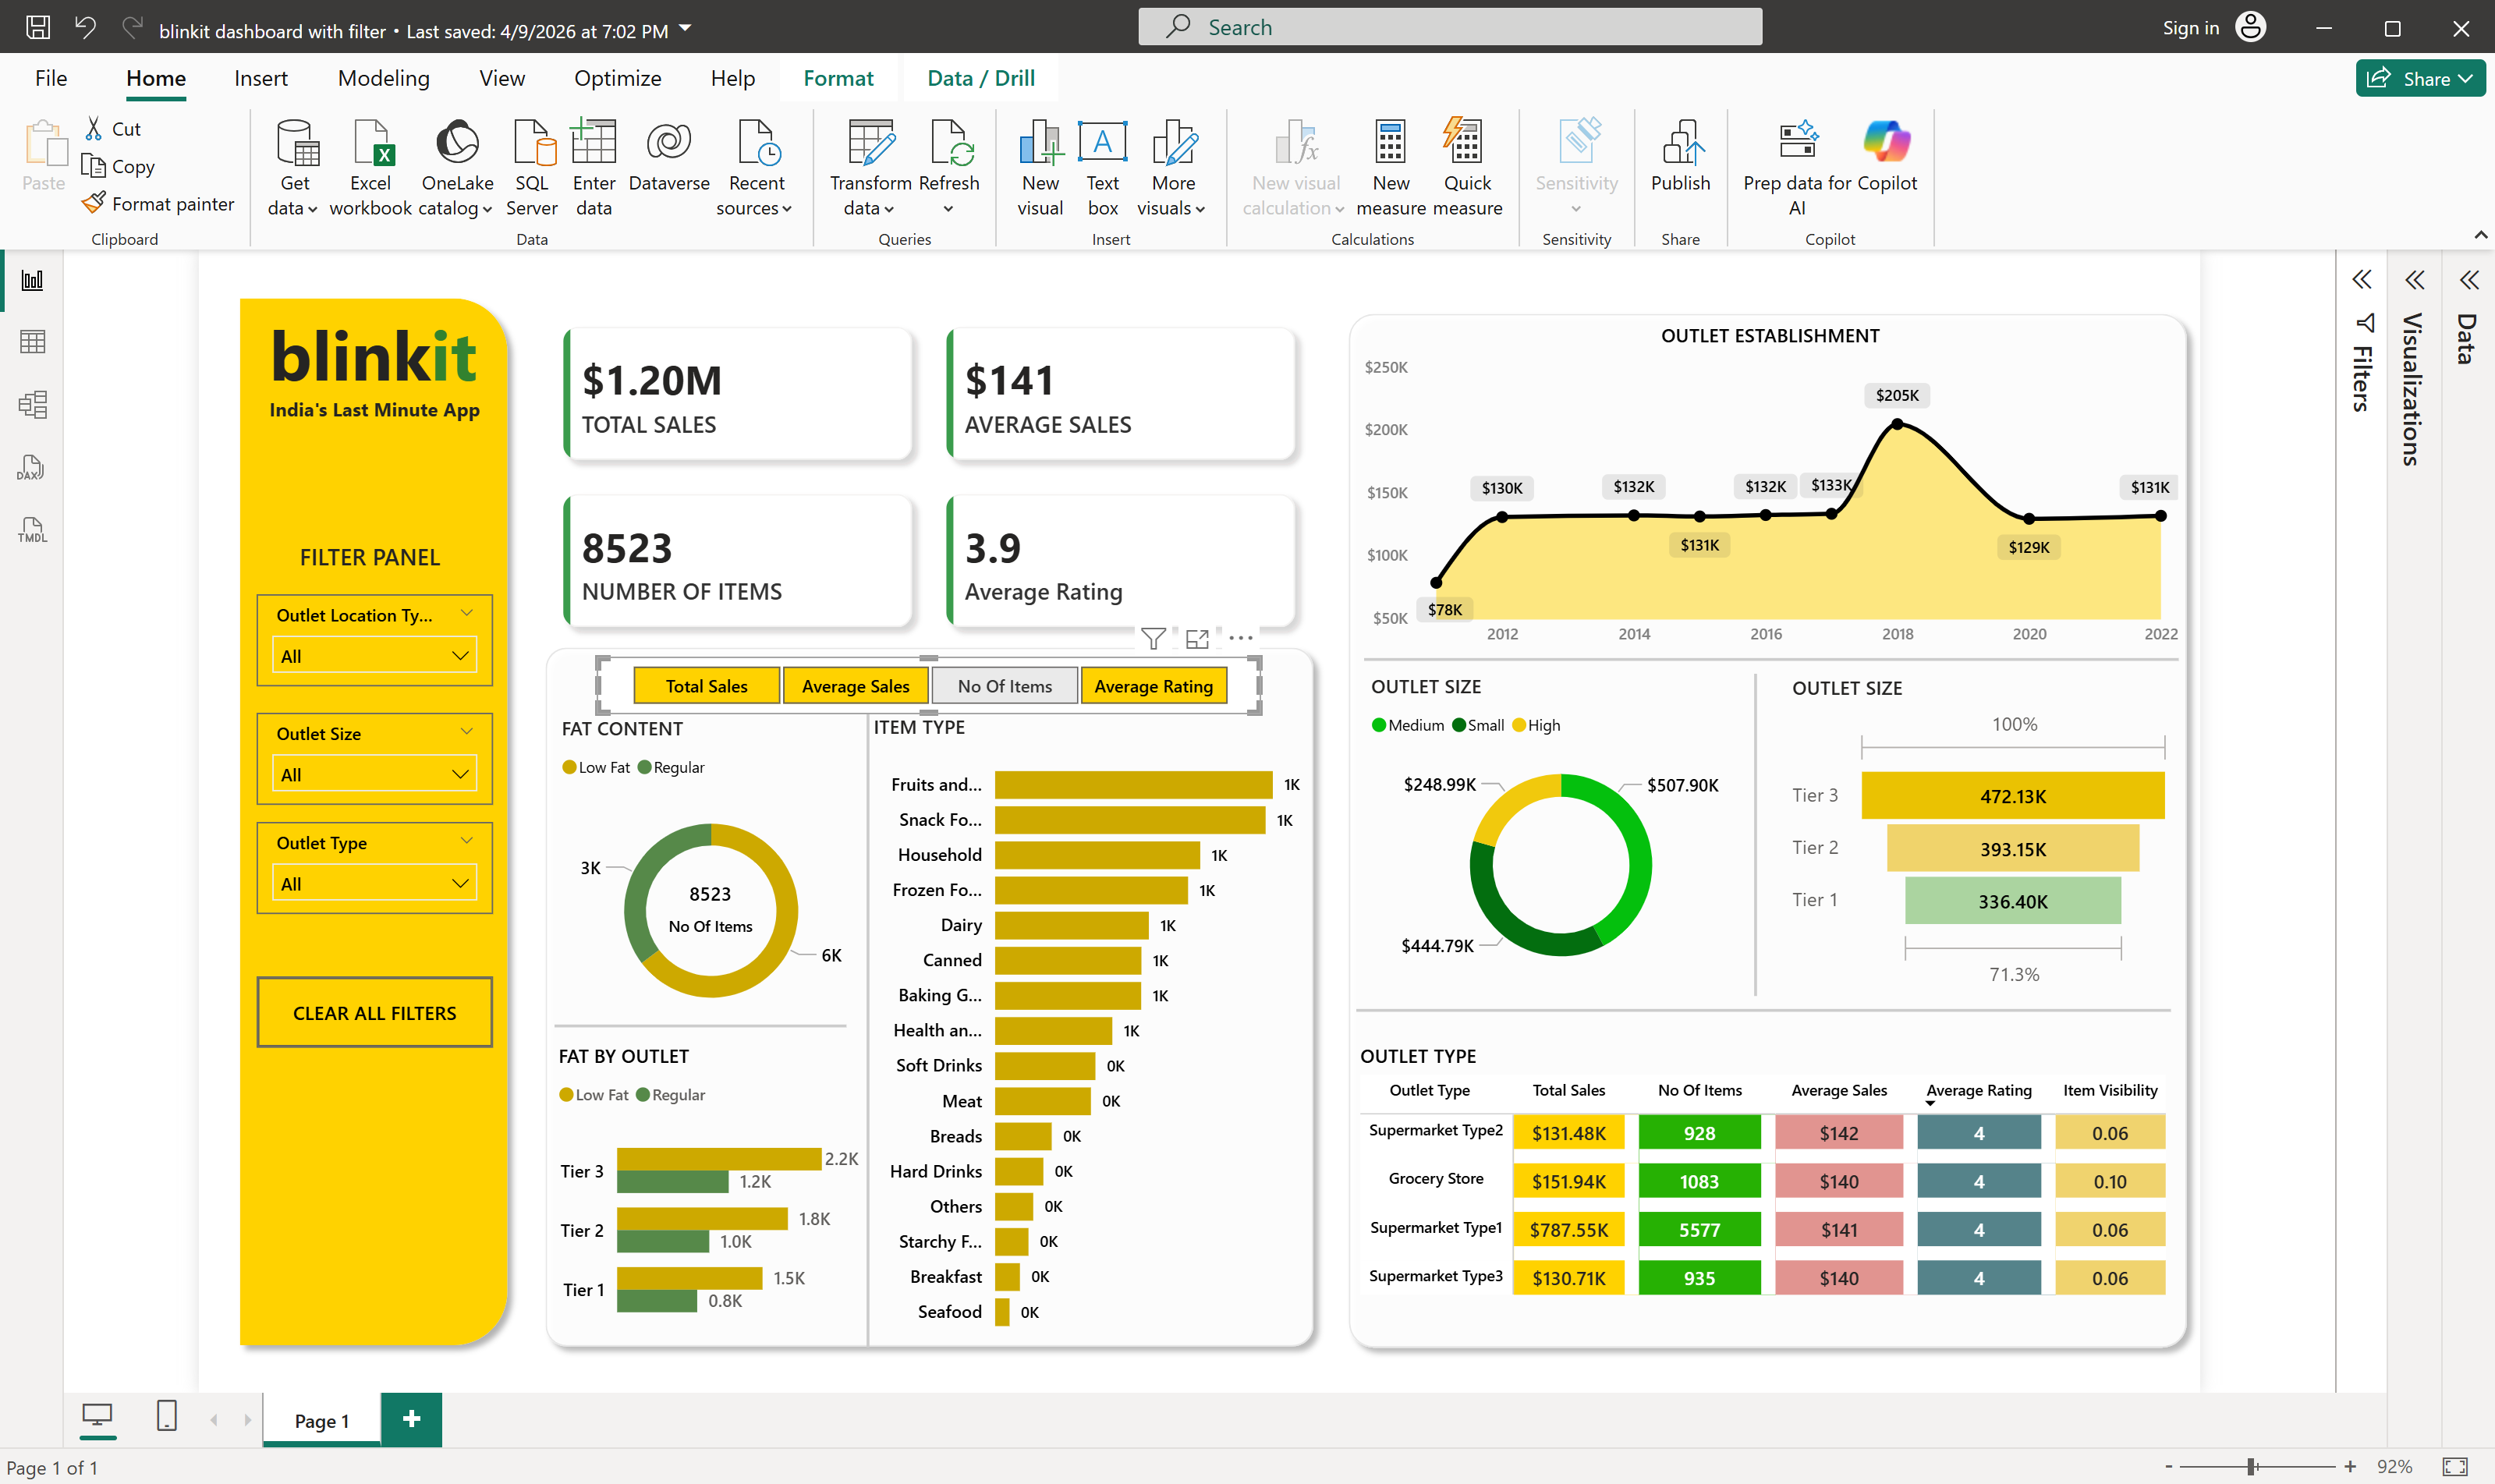

What the dashboard file says about the page in this screenshot:
{"tool":"powerbi","page":{"name":"Page 1","canvas":[1400,800],"ordinal":0},"visuals":[{"type":"shape","box":[19.7,25.3,205.2,750.6],"z":0},{"type":"textbox","box":[35.1,35.1,174.3,77.3],"z":1},{"type":"textbox","box":[35.7,97.1,174.3,30],"z":2},{"type":"cardVisual","fields":{"Data":["BlinkIT Grocery Data.Total Sales","BlinkIT Grocery Data.Average Sales","BlinkIT Grocery Data.No Of Items","BlinkIT Grocery Data.Average Rating"]},"box":[226.3,25.3,570.7,269.9],"z":3},{"type":"shape","box":[233.3,269.9,555.2,507],"z":4},{"type":"donutChart","title":"FAT CONTENT","fields":{"Category":["BlinkIT Grocery Data.Item Fat Content"],"Y":["BlinkIT Grocery Data.Total Sales"]},"box":[248.8,324.7,219.3,230.5],"z":5},{"type":"slicer","fields":{"Values":["Matrics.Matrics"]},"box":[278.3,285.3,465.3,39.4],"z":6},{"type":"card","fields":{"Values":["BlinkIT Grocery Data.Total Sales"]},"box":[322.9,430,70,60],"z":8},{"type":"clusteredBarChart","title":"FAT BY OUTLET","fields":{"Category":["BlinkIT Grocery Data.Outlet Location Type"],"Series":["BlinkIT Grocery Data.Item Fat Content"],"Y":["BlinkIT Grocery Data.Total Sales"]},"box":[247.1,554.3,220,212.9],"z":9},{"type":"shape","box":[248.6,532.9,204.3,21.4],"z":10},{"type":"shape","box":[447.1,324.3,41.4,444.3],"z":11},{"type":"barChart","title":"ITEM TYPE","fields":{"Y":["BlinkIT Grocery Data.Total Sales"],"Category":["BlinkIT Grocery Data.Item Type"]},"box":[467.1,324.3,310,444.3],"z":12},{"type":"shape","box":[795.7,35.7,604.3,741.4],"z":13},{"type":"lineChart","title":"OUTLET ESTABLISHMENT","fields":{"Y":["BlinkIT Grocery Data.Total Sales"],"Category":["BlinkIT Grocery Data.Outlet Establishment Year"]},"box":[810,50,580,235.7],"z":14},{"type":"shape","box":[815.7,275.7,570,21.4],"z":15},{"type":"donutChart","title":"OUTLET SIZE","fields":{"Y":["BlinkIT Grocery Data.Total Sales"],"Category":["BlinkIT Grocery Data.Outlet Size"]},"box":[815.7,295.7,275.7,225.7],"z":16},{"type":"funnel","title":"OUTLET SIZE","fields":{"Y":["Sum(BlinkIT Grocery Data.Sales)"],"Category":["BlinkIT Grocery Data.Outlet Location Type"]},"box":[1110,297.1,275.7,225.7],"z":17},{"type":"shape","box":[810,521.4,570,21.4],"z":18},{"type":"slicer","fields":{"Values":["BlinkIT Grocery Data.Outlet Location Type"]},"box":[40,241.4,165.7,64.3],"z":19},{"type":"slicer","fields":{"Values":["BlinkIT Grocery Data.Outlet Size"]},"box":[40,324.3,165.7,64.3],"z":20},{"type":"slicer","fields":{"Values":["BlinkIT Grocery Data.Outlet Type"]},"box":[40,400,165.7,64.3],"z":21},{"type":"textbox","box":[65.7,198.6,112.9,42.9],"z":22},{"type":"pivotTable","title":"OUTLET TYPE","fields":{"Rows":["BlinkIT Grocery Data.Outlet Type"],"Values":["BlinkIT Grocery Data.Total Sales","BlinkIT Grocery Data.No Of Items","BlinkIT Grocery Data.Average Sales","BlinkIT Grocery Data.Average Rating","Avg(BlinkIT Grocery Data.Item Visibility)"]},"box":[807.1,554.3,575.7,222.9],"z":23},{"type":"shape","box":[1068.6,297.1,41.4,225.7],"z":24},{"type":"actionButton","title":"cLEAR","box":[40,508.6,165.7,50],"z":25}]}

Visuals, with their boxes on the page's 1400x800 design canvas (x1, y1, x2, y2). These are canvas units, not pixel positions in the 2495x1484 screenshot, which may show the page scaled, cropped or inside an application window:
shape: bbox=[20, 25, 225, 776]
textbox: bbox=[35, 35, 209, 112]
textbox: bbox=[36, 97, 210, 127]
cardVisual - BlinkIT Grocery Data.Total Sales x BlinkIT Grocery Data.Average Sales: bbox=[226, 25, 797, 295]
shape: bbox=[233, 270, 788, 777]
"FAT CONTENT" donutChart: bbox=[249, 325, 468, 555]
slicer - Matrics.Matrics: bbox=[278, 285, 744, 325]
card - BlinkIT Grocery Data.Total Sales: bbox=[323, 430, 393, 490]
"FAT BY OUTLET" clusteredBarChart: bbox=[247, 554, 467, 767]
shape: bbox=[249, 533, 453, 554]
shape: bbox=[447, 324, 488, 769]
"ITEM TYPE" barChart: bbox=[467, 324, 777, 769]
shape: bbox=[796, 36, 1400, 777]
"OUTLET ESTABLISHMENT" lineChart: bbox=[810, 50, 1390, 286]
shape: bbox=[816, 276, 1386, 297]
"OUTLET SIZE" donutChart: bbox=[816, 296, 1091, 521]
"OUTLET SIZE" funnel: bbox=[1110, 297, 1386, 523]
shape: bbox=[810, 521, 1380, 543]
slicer - BlinkIT Grocery Data.Outlet Location Type: bbox=[40, 241, 206, 306]
slicer - BlinkIT Grocery Data.Outlet Size: bbox=[40, 324, 206, 389]
slicer - BlinkIT Grocery Data.Outlet Type: bbox=[40, 400, 206, 464]
textbox: bbox=[66, 199, 179, 242]
"OUTLET TYPE" pivotTable: bbox=[807, 554, 1383, 777]
shape: bbox=[1069, 297, 1110, 523]
"cLEAR" actionButton: bbox=[40, 509, 206, 559]
